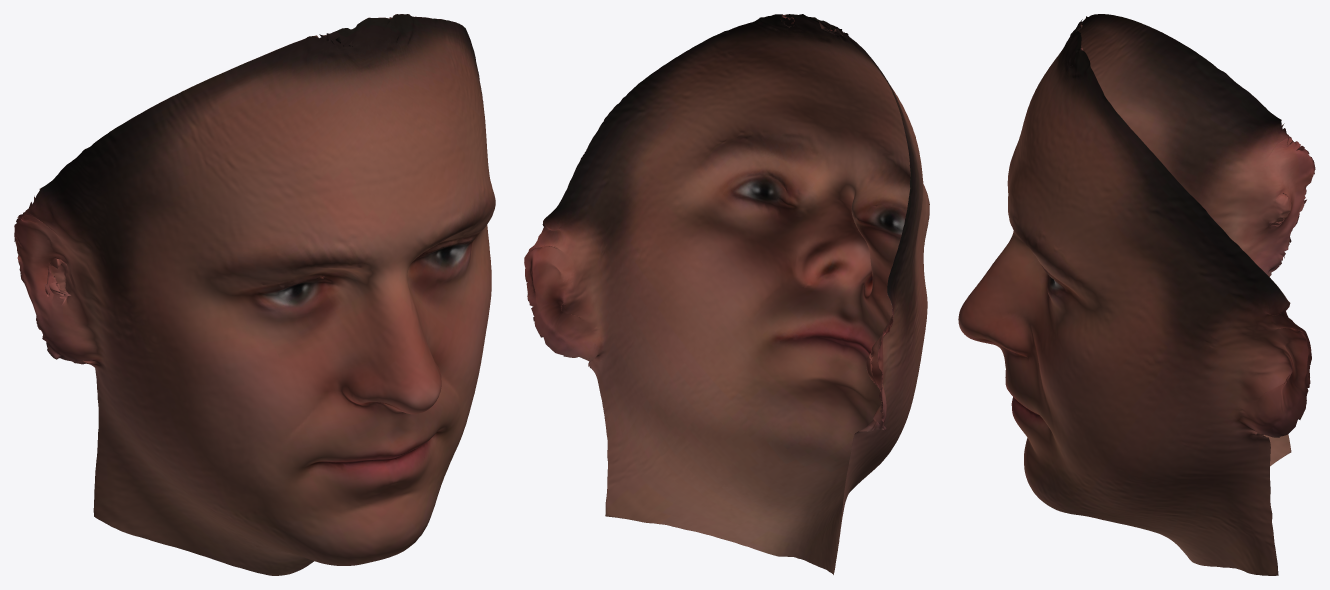
The model's file is white.glb.
3 renders of one model, left to right at view 1: azimuth 30°, elevation 25°; view 2: azimuth 150°, elevation 25°; view 3: azimuth 270°, elevation 25°, orthographic. The views are drawn at different scales.
Visible parts, largest first — view 1: male_avg; view 2: male_avg; view 3: male_avg.
Part boxes in pixels (x1,y1,x2,y2): male_avg: (14,14,495,575); male_avg: (524,14,929,574); male_avg: (958,14,1315,575).
Size of the model in its own units: 182 by 241 by 148.
Materials: 1 (1 with a texture image).
